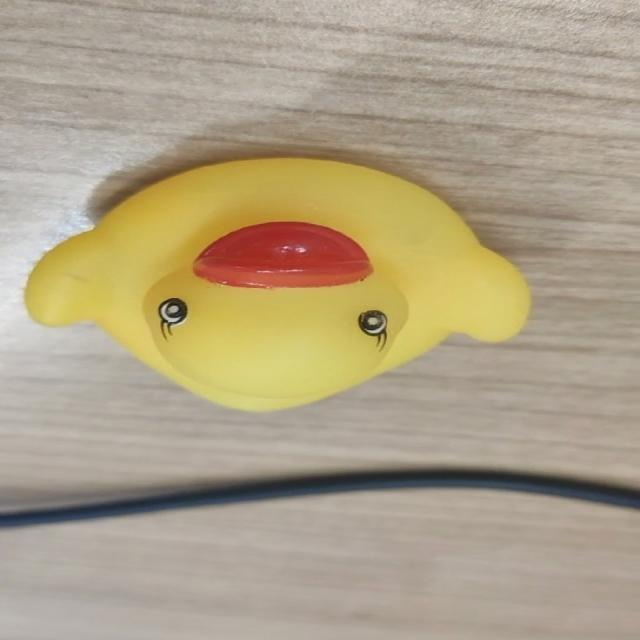rubber-duck: (24, 157, 528, 408)
